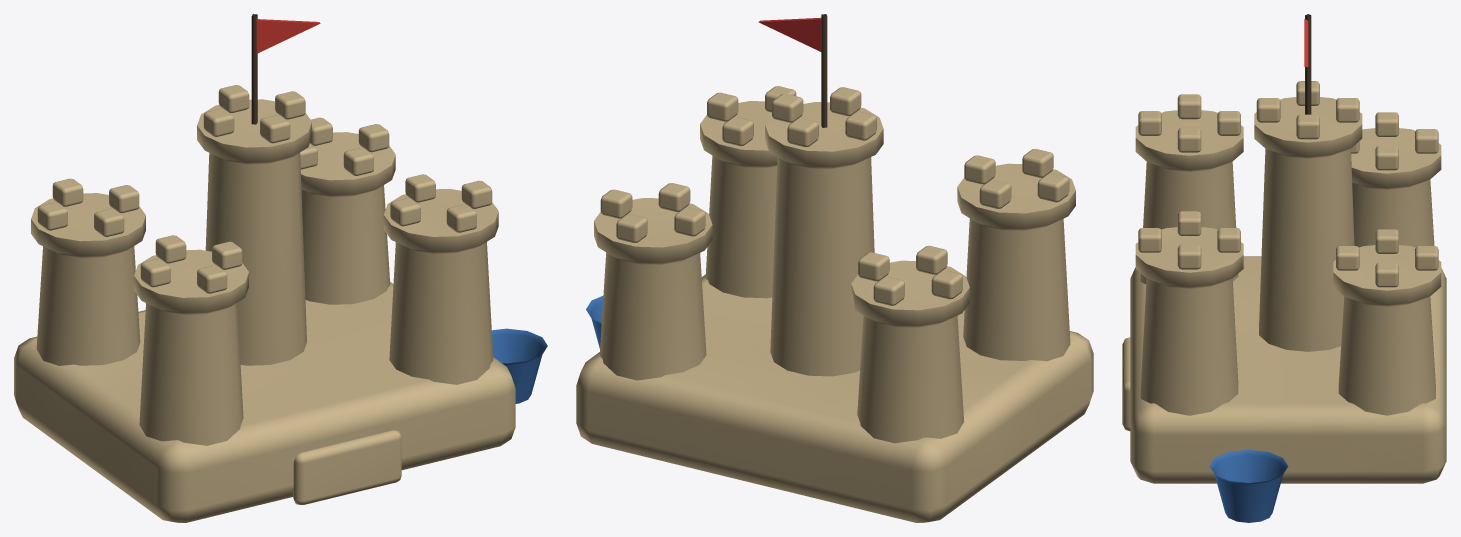
Rendered from sandcastle.glb.
The picture shows the model from 3 angles, left to right: view 1: azimuth 30°, elevation 25°; view 2: azimuth 150°, elevation 25°; view 3: azimuth 270°, elevation 25°; orthographic projection. The views are drawn at different scales.
Parts seen in each view (by area): view 1: sandcastle_main; view 2: sandcastle_main; view 3: sandcastle_main.
Boxes of the visible parts, x1,y1,x2,y2 form: sandcastle_main: [14, 14, 547, 522]; sandcastle_main: [576, 14, 1093, 522]; sandcastle_main: [1122, 14, 1446, 522].
Size of the model in its own units: 1.22 by 1.1 by 0.82.
